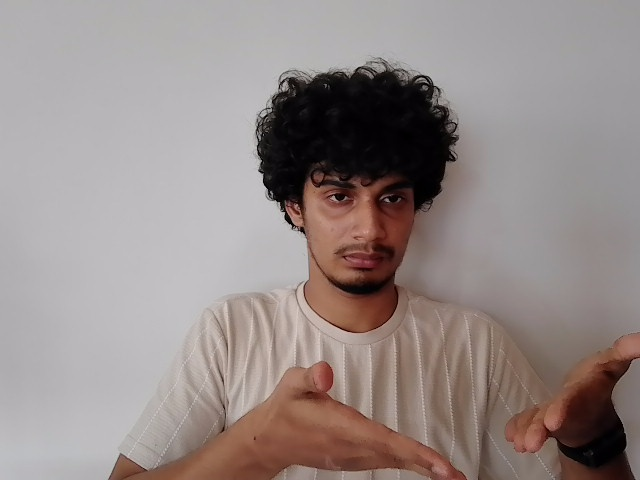here: (268, 332, 640, 480)
